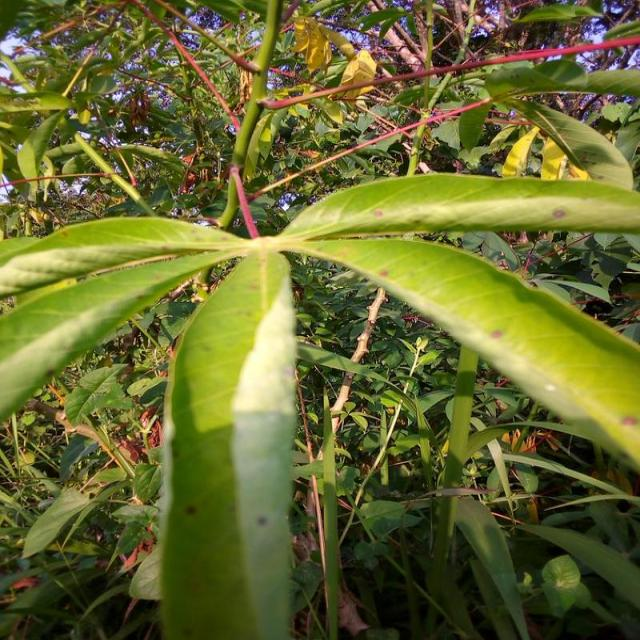cassava leaf: (286, 233, 640, 472), (158, 247, 298, 638)
